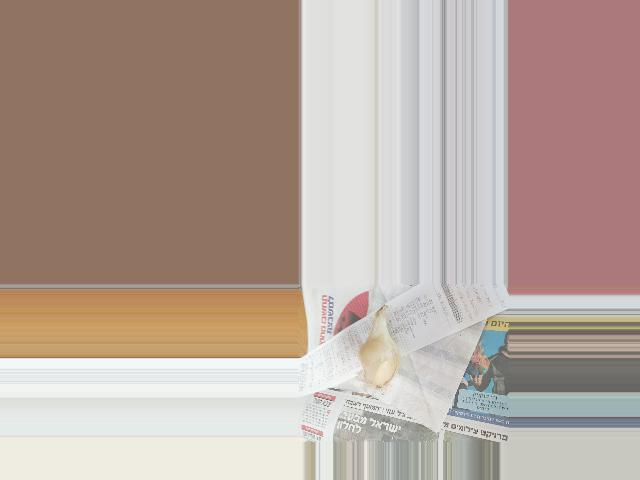onion: (360, 327, 404, 392)
